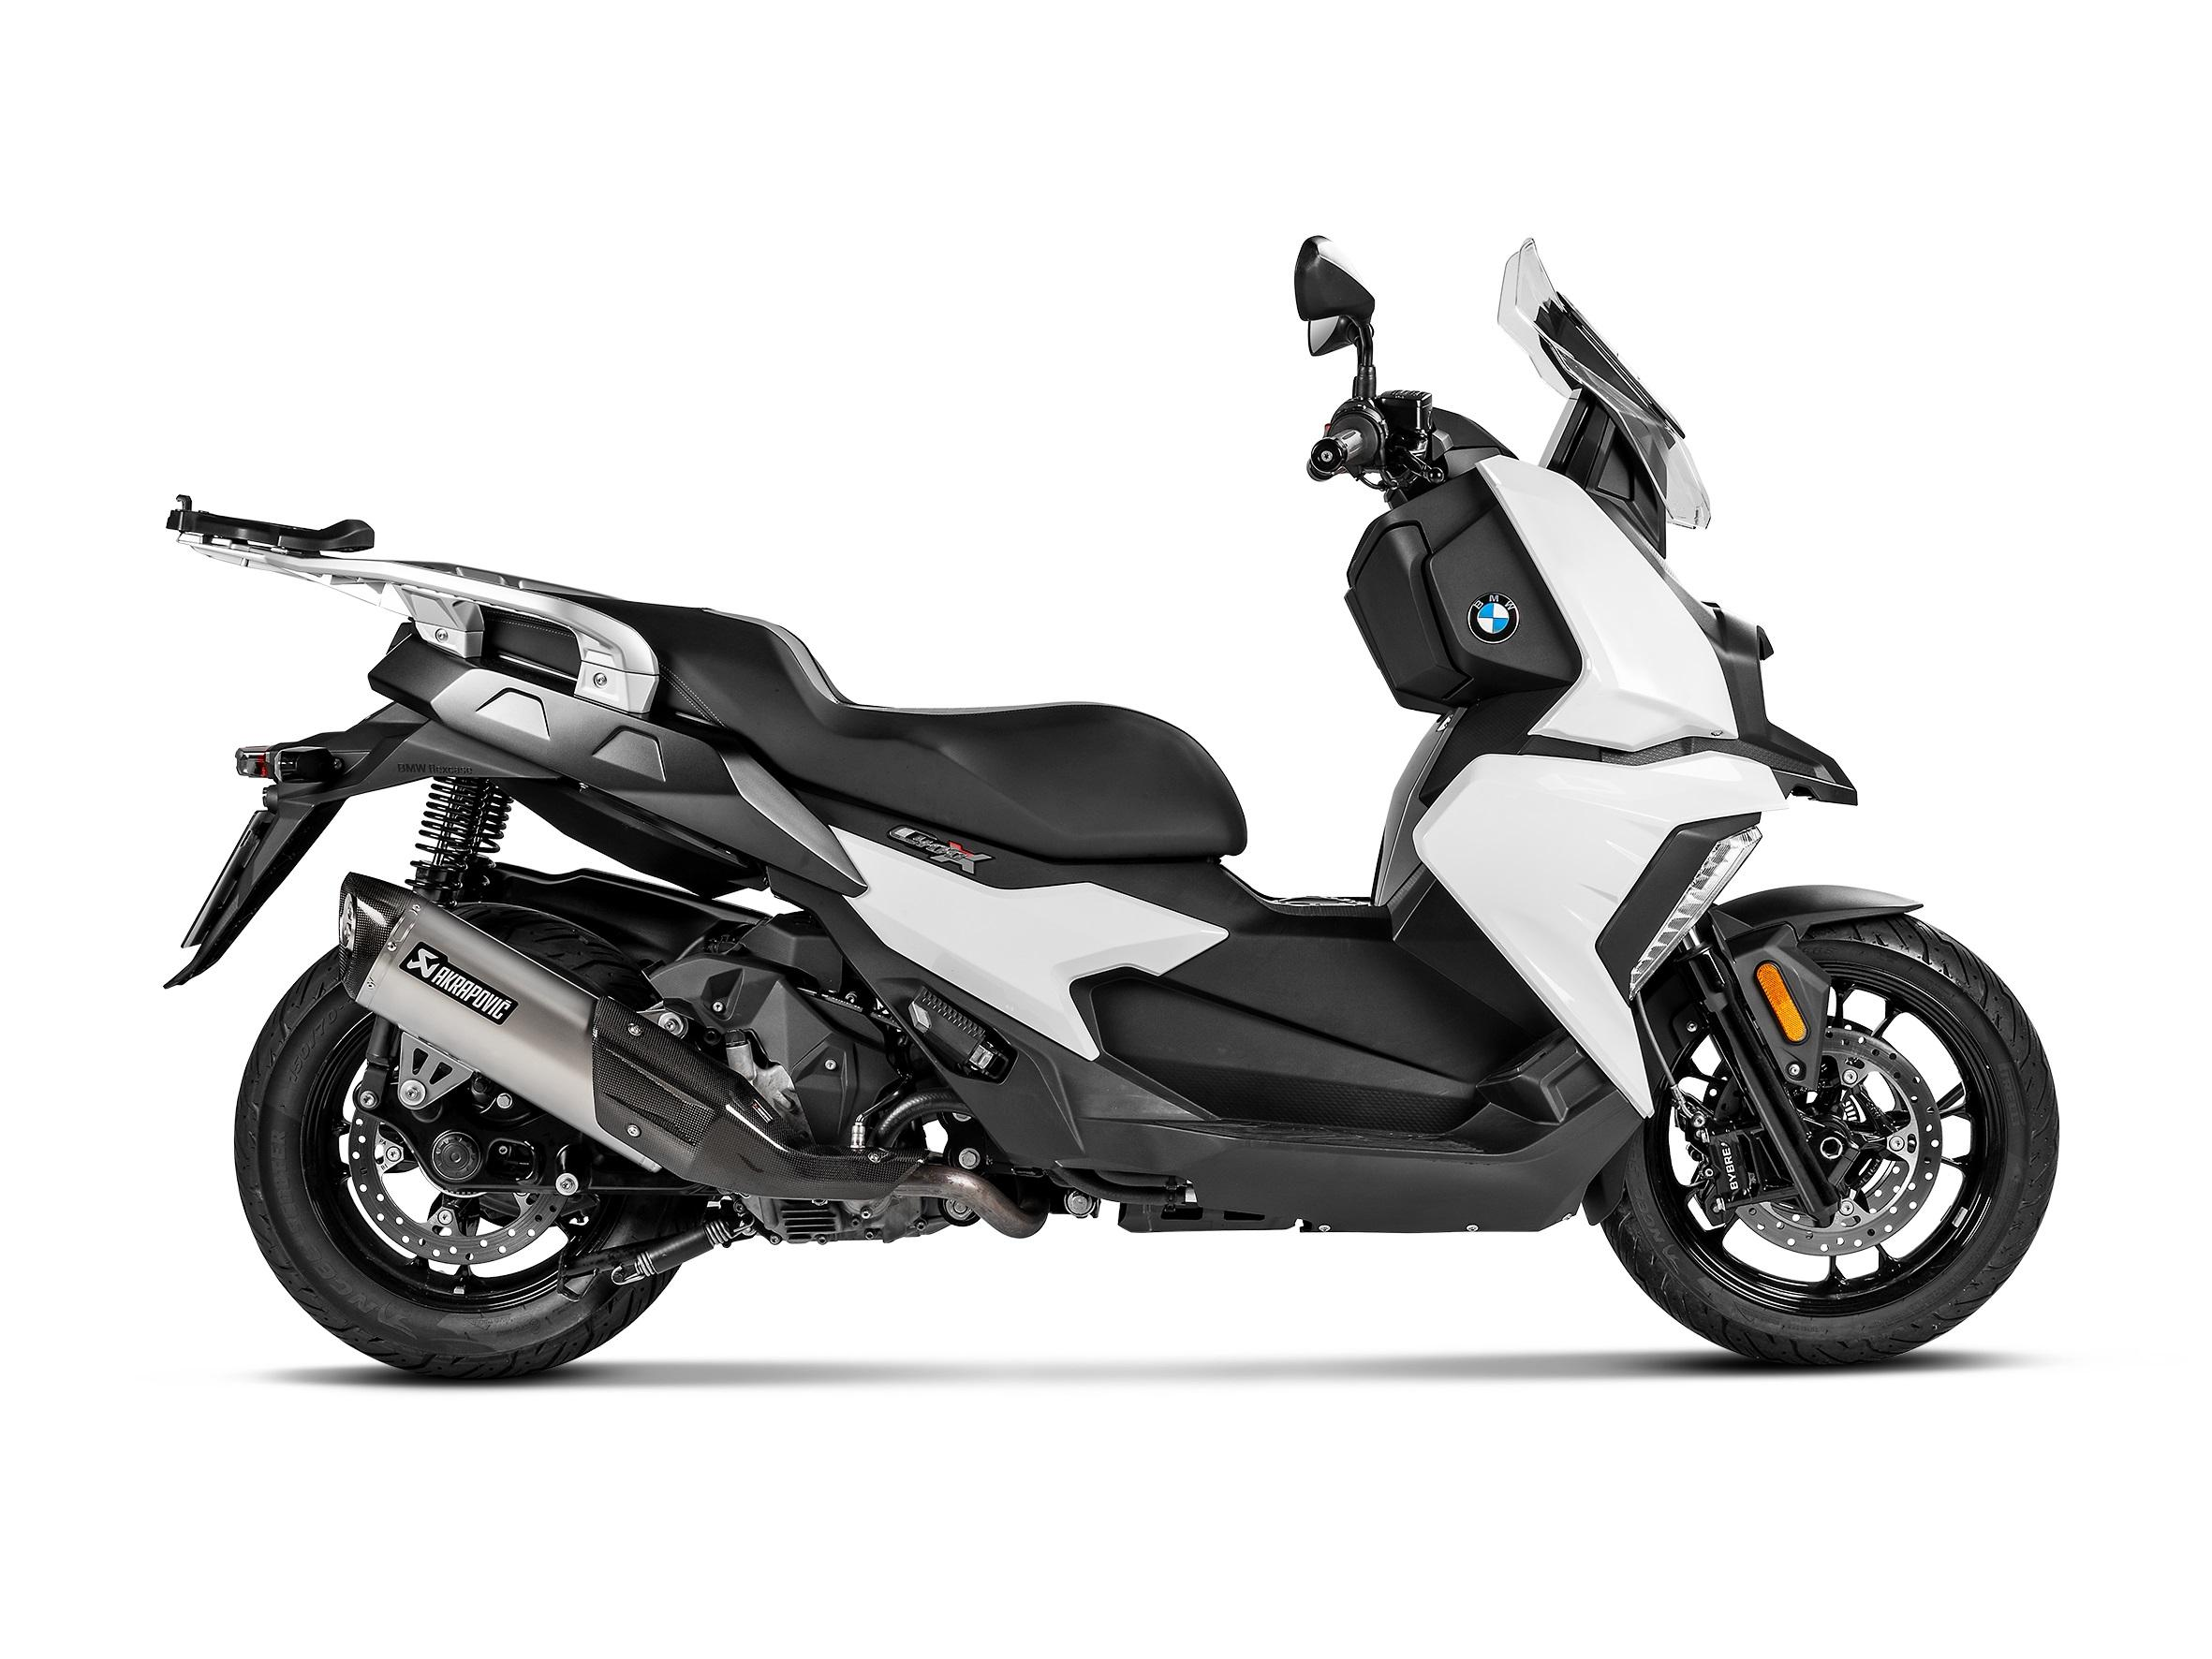engine-chasis: (723, 769, 1644, 1234), (556, 1194, 981, 1303), (404, 777, 516, 910), (357, 1014, 403, 1110)
exhaust: (338, 871, 1051, 1239)
frontside: (1344, 239, 1924, 1227), (1581, 1127, 1639, 1227)
handlebar: (1293, 235, 1520, 511), (1537, 383, 1609, 490)
motorbike: (164, 234, 2062, 1378)
rearside: (162, 495, 885, 1077), (352, 1035, 723, 1202), (877, 979, 1016, 1084)
seat: (528, 591, 1248, 861)
tank: (1215, 708, 1469, 918)
wheel: (1600, 911, 2060, 1370), (234, 945, 711, 1382), (448, 901, 662, 1011), (1635, 990, 1684, 1101)
